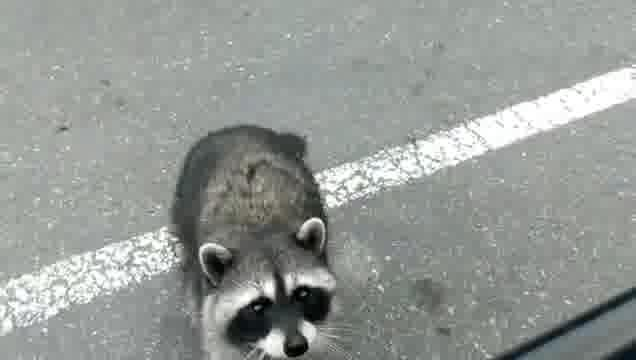raccoon: (170, 121, 346, 360)
